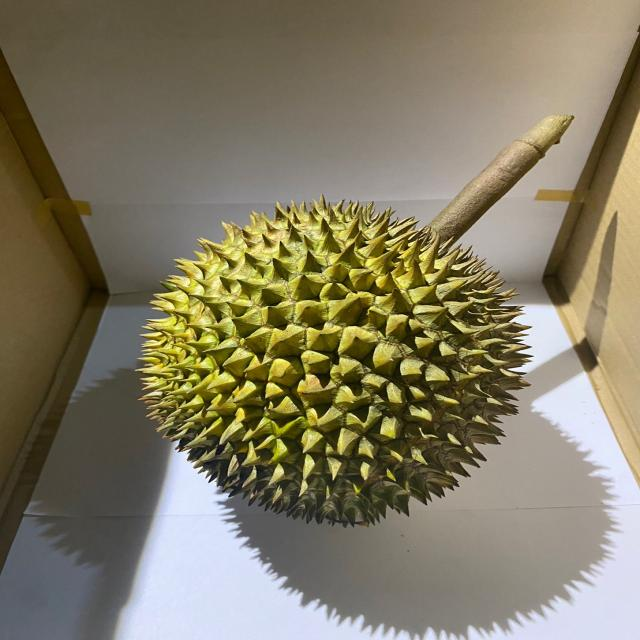immature: (135, 197, 536, 528)
